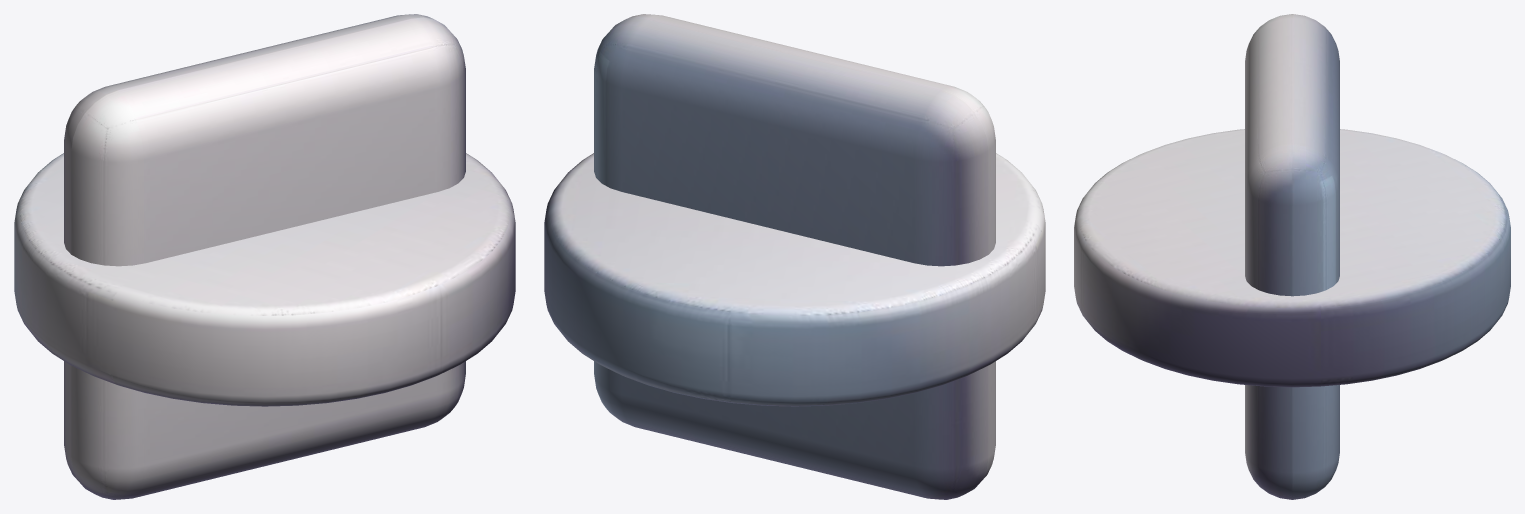
File: props.glb
3 renders of one model, left to right at view 1: azimuth 30°, elevation 25°; view 2: azimuth 150°, elevation 25°; view 3: azimuth 270°, elevation 25°, orthographic. The views are drawn at different scales.
Visible parts, largest first — view 1: tile, pedestal; view 2: tile, pedestal; view 3: pedestal, tile.
Part boxes in pixels (bbox=[...]): tile: bbox=[64, 14, 465, 499]; pedestal: bbox=[14, 153, 515, 406]; tile: bbox=[594, 14, 995, 499]; pedestal: bbox=[544, 153, 1045, 406]; pedestal: bbox=[1074, 129, 1510, 387]; tile: bbox=[1245, 14, 1339, 499].
Bounding box in the file's own units: 2.3 × 2.05 × 2.3.
Materials: 2 (2 with a texture image).
